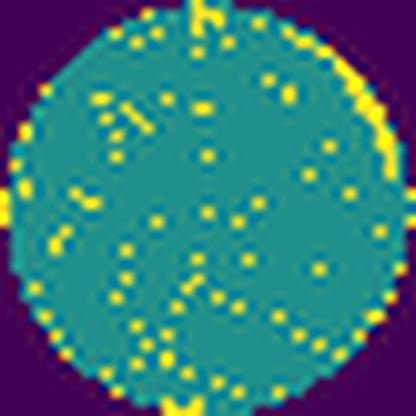Edge-Loc: (280, 19, 407, 184), (158, 386, 209, 416)
